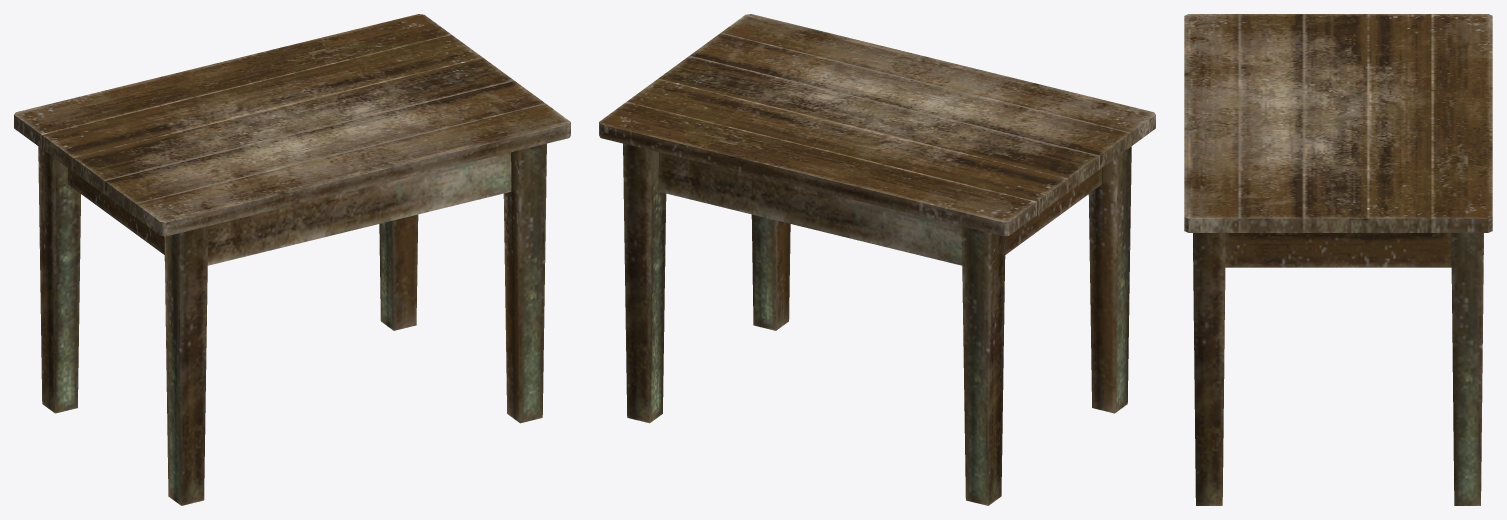
File: 108_FarmTable.fbx
3 renders of one model, left to right at view 1: azimuth 30°, elevation 25°; view 2: azimuth 150°, elevation 25°; view 3: azimuth 270°, elevation 25°, orthographic. The views are drawn at different scales.
Visible parts, largest first — view 1: LOD_1_Group_0_Sub_1__sm30_108_FarmTable01A_A_Mat; view 2: LOD_1_Group_0_Sub_1__sm30_108_FarmTable01A_A_Mat; view 3: LOD_1_Group_0_Sub_1__sm30_108_FarmTable01A_A_Mat.
Boxes of the visible parts, left/top/right/bottom form: LOD_1_Group_0_Sub_1__sm30_108_FarmTable01A_A_Mat: left=14, top=14, right=570, bottom=505; LOD_1_Group_0_Sub_1__sm30_108_FarmTable01A_A_Mat: left=599, top=14, right=1155, bottom=505; LOD_1_Group_0_Sub_1__sm30_108_FarmTable01A_A_Mat: left=1184, top=14, right=1492, bottom=505.
Bounding box in the file's own units: 1.17 × 0.8 × 0.747.
